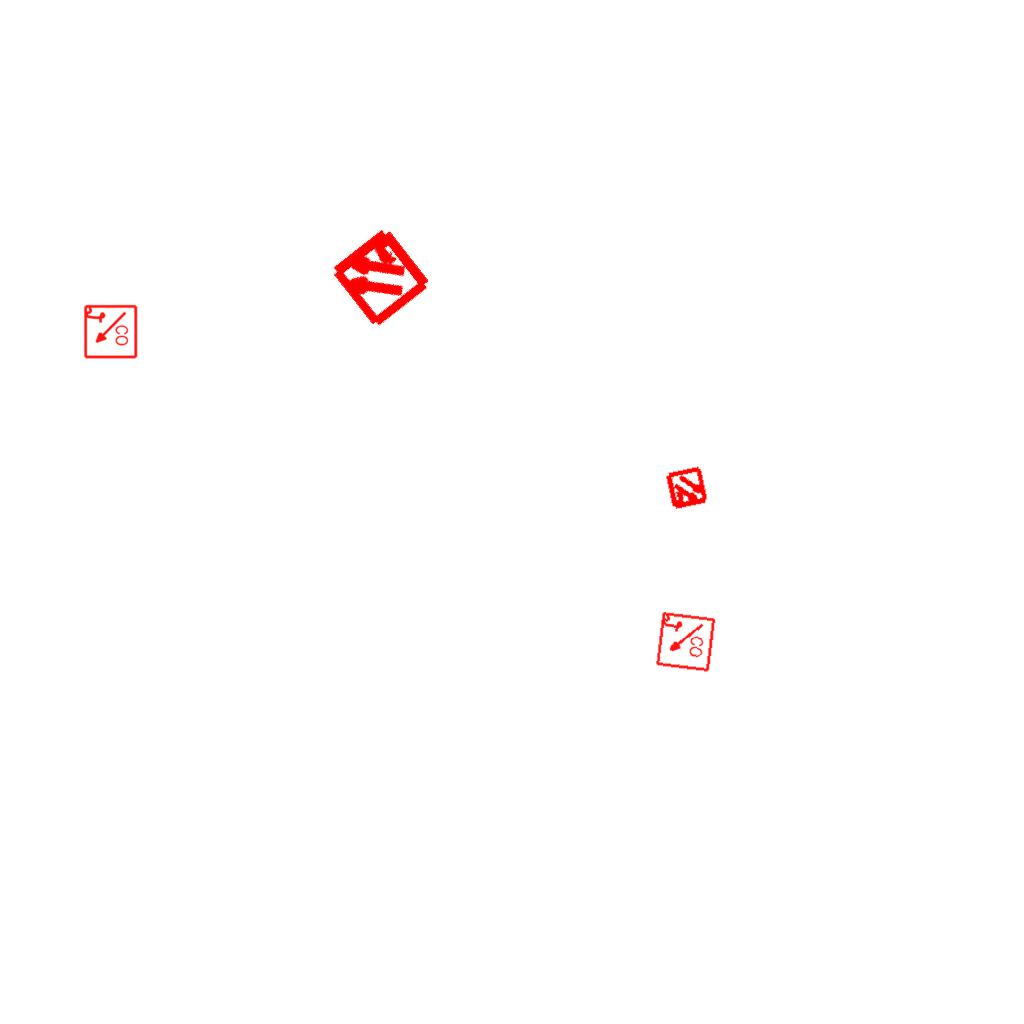OT_Multisensormelder_(Kombination_RMO_WMD): (300, 196, 459, 355), (653, 455, 721, 523)
ROA_Rauchmelder_optisch_mit_Signalgeber_(Sockelsirene): (653, 610, 717, 674), (82, 304, 138, 360)
